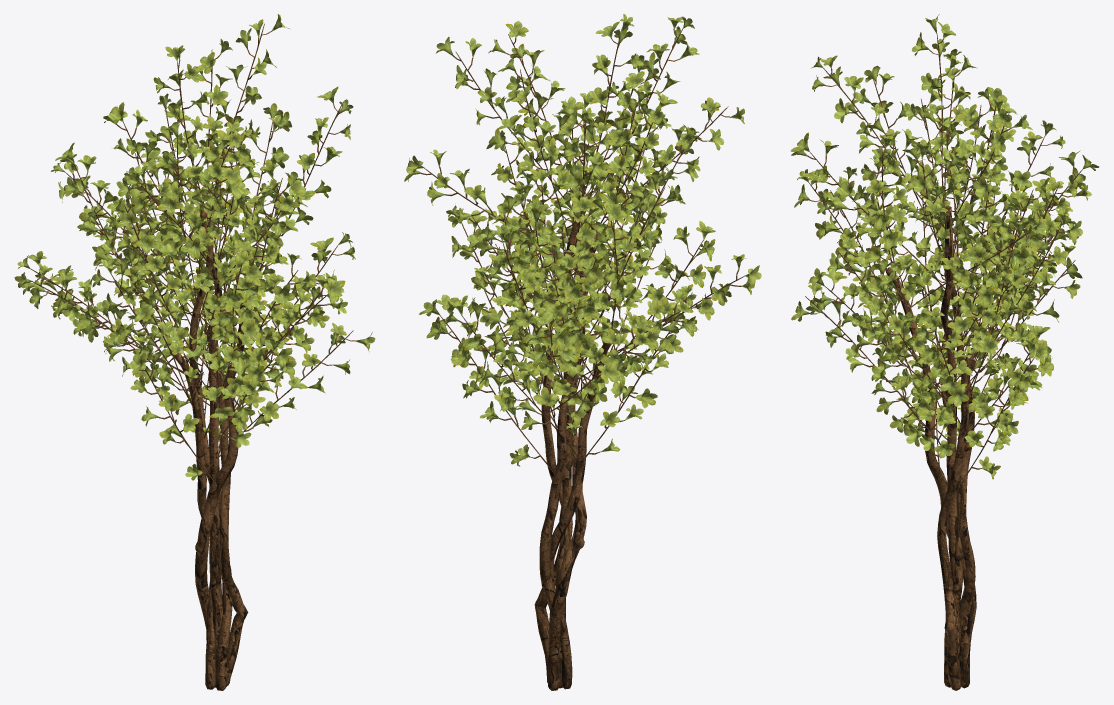
3 views of the same model, side by side, from view 1: azimuth 30°, elevation 25°; view 2: azimuth 150°, elevation 25°; view 3: azimuth 270°, elevation 25° (orthographic). The views are drawn at different scales.
Visible parts, largest first — view 1: Flowers, TrunkandBranches; view 2: Flowers, TrunkandBranches; view 3: Flowers, TrunkandBranches.
Boxes of the visible parts, x1,y1,x2,y2 form: Flowers: (14,14,375,480); TrunkandBranches: (30,23,355,690); Flowers: (404,14,761,466); TrunkandBranches: (421,28,744,690); Flowers: (790,14,1099,479); TrunkandBranches: (805,35,1082,690).
Bounding box in the file's own units: 24.54 × 48.44 × 21.04.
